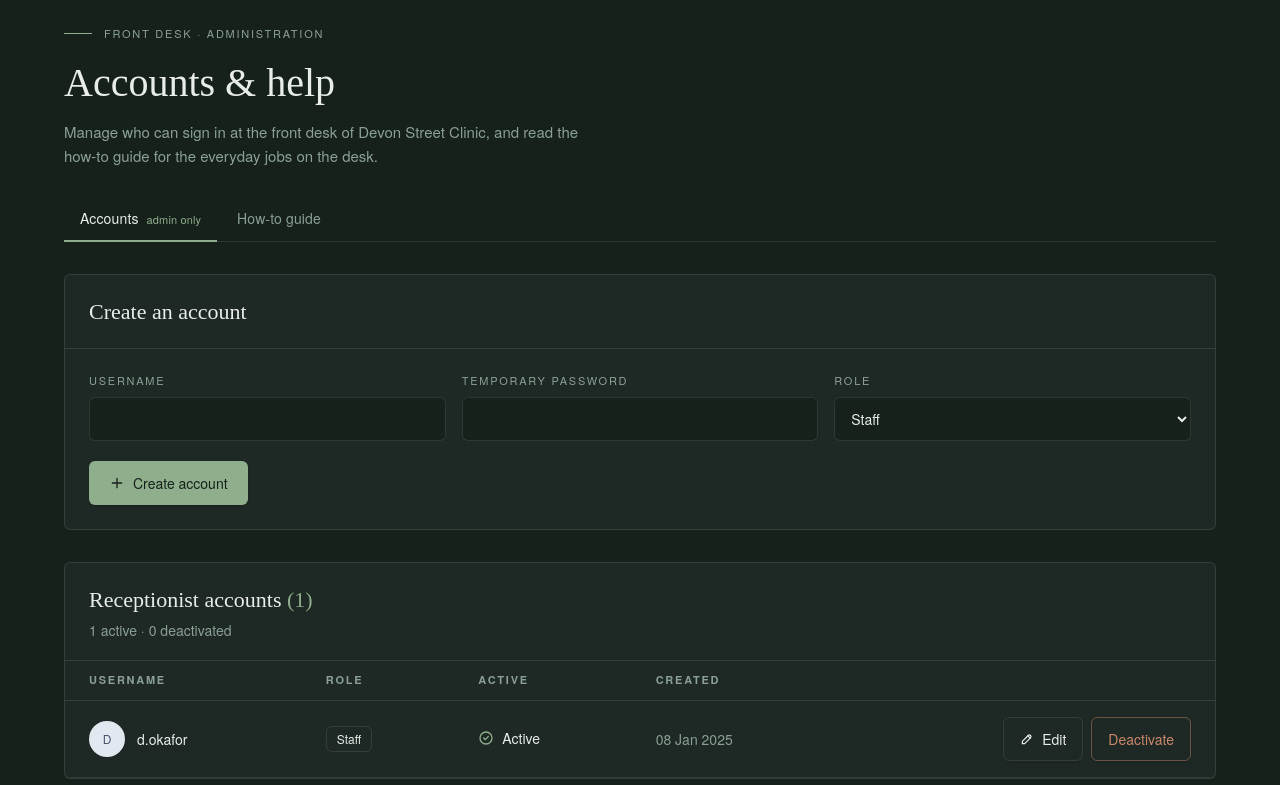
Test: Settings screen — accounts › [AC-006] editing an account's role PATCHes /accounts/{id}
Expected: the text "d.okafor" is shown, x1=137 y1=729 x2=188 y2=749
Step 1. Click the button with aria-label "edit d.okafor" → (1043, 739), box x1=1003 y1=717 x2=1083 y2=761
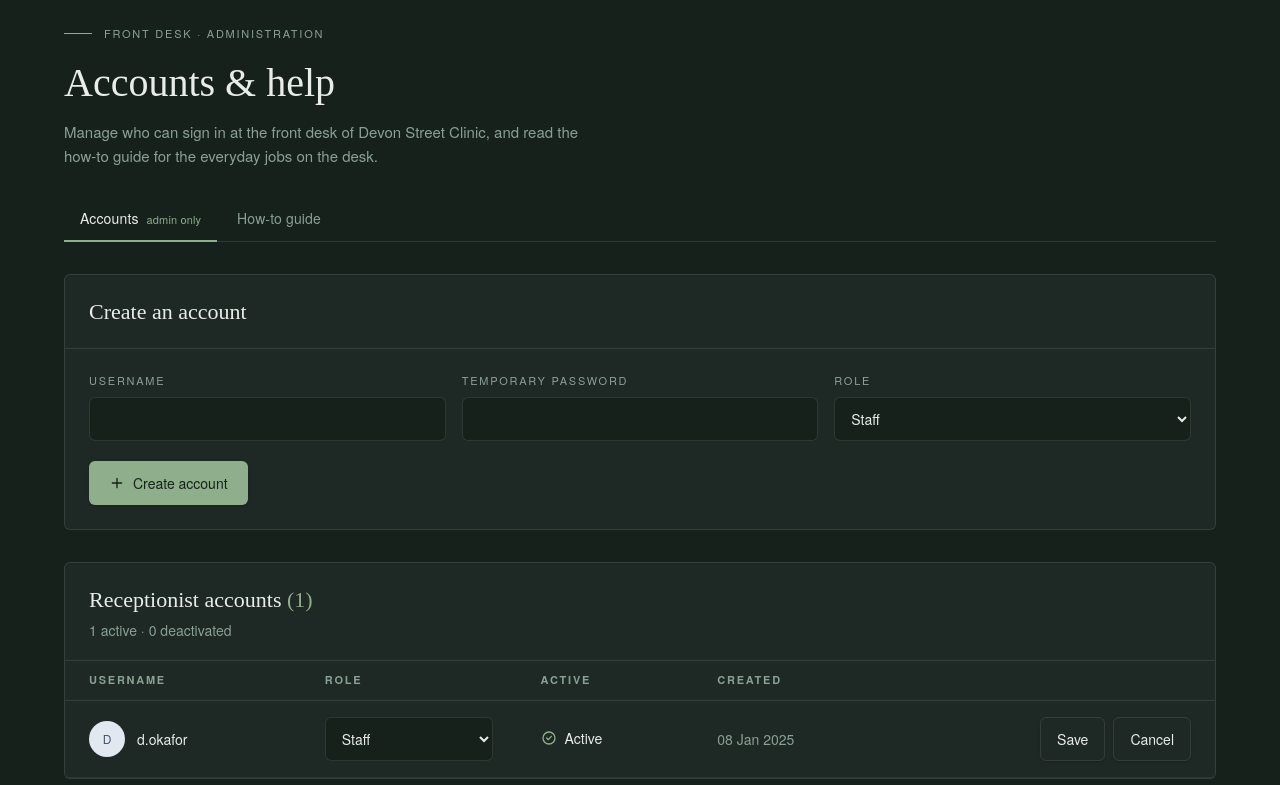
Step 2. Select "Admin" in the dropdown named "Role for d.okafor" → (409, 739), box x1=325 y1=717 x2=493 y2=761
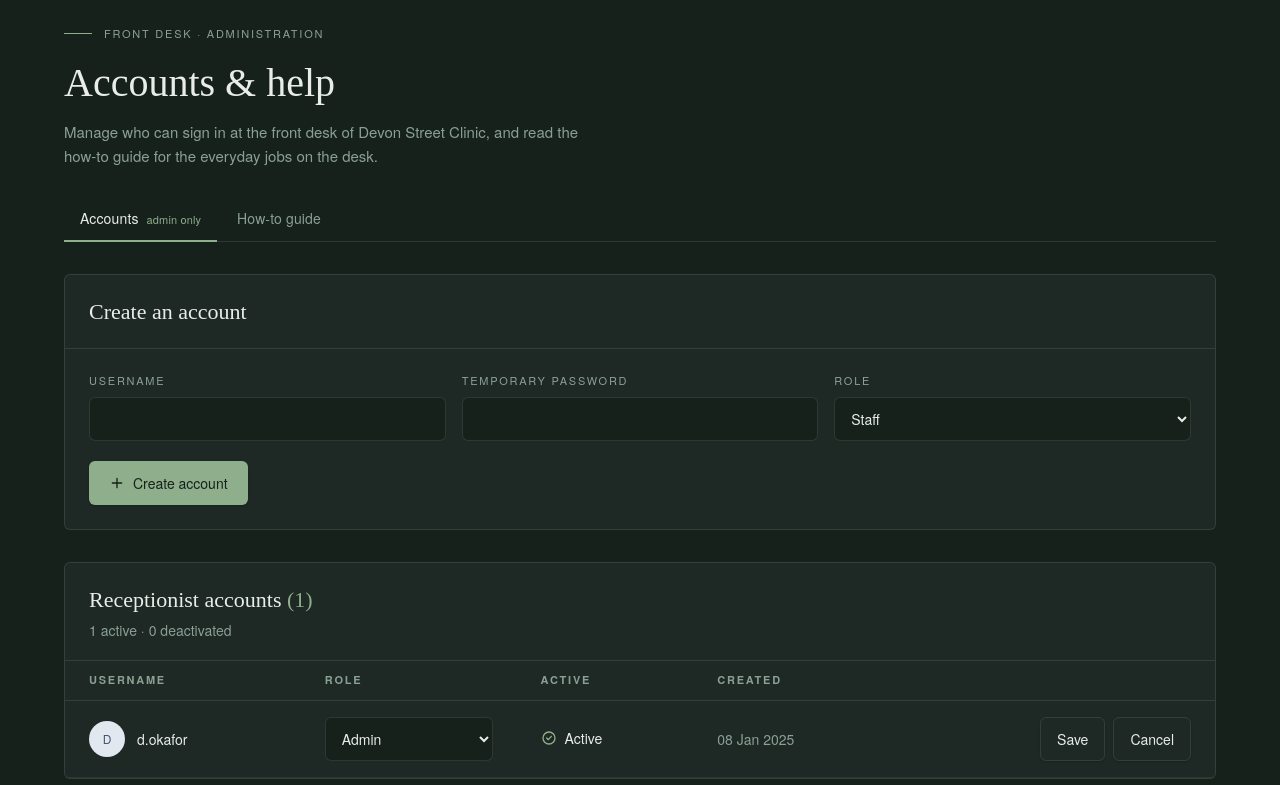
Step 3. Click the button with aria-label "save role for d.okafor" → (1073, 739), box x1=1040 y1=717 x2=1106 y2=761
(page scrolled)
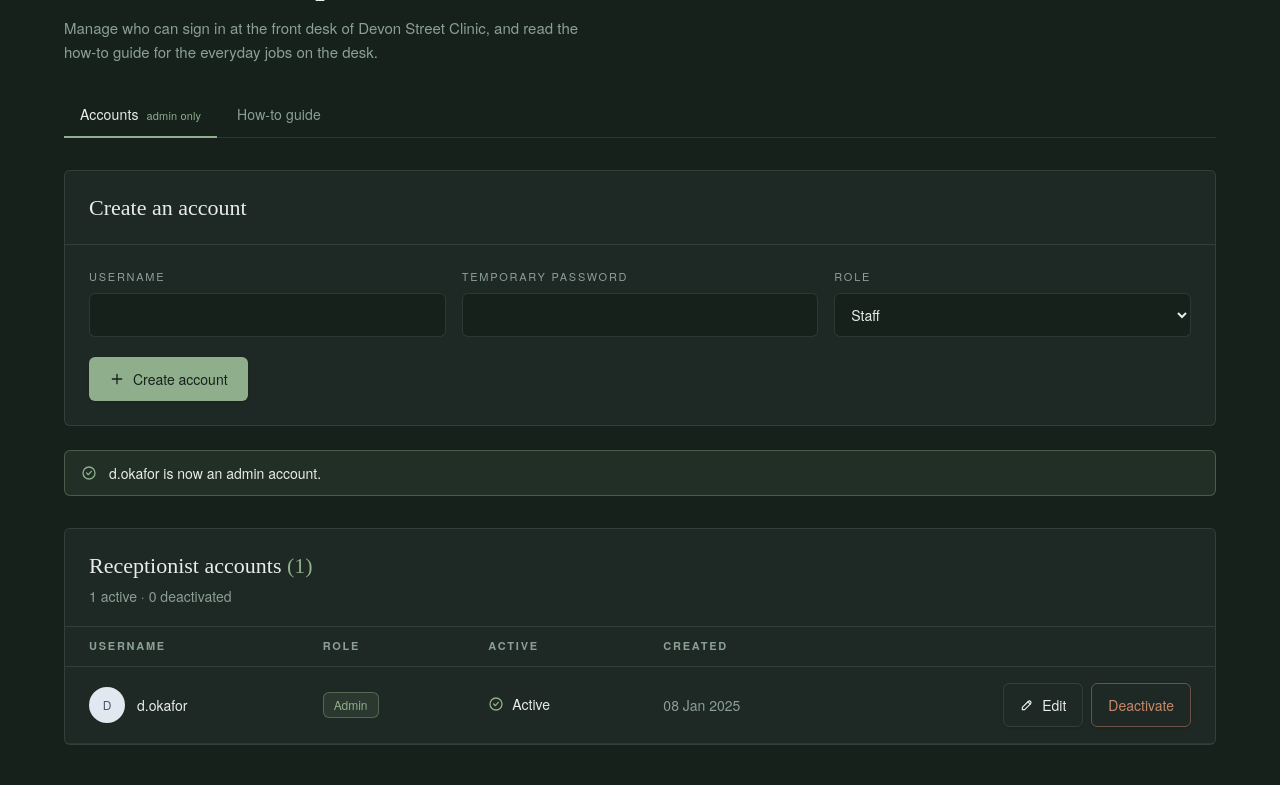
Expected: the cell "Admin" is shown, x1=299 y1=666 x2=464 y2=743
